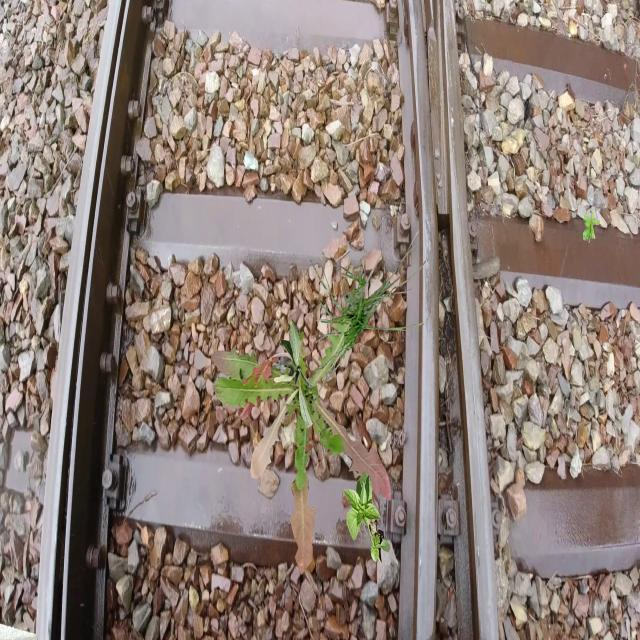Plant: (211, 298, 391, 576), (308, 229, 426, 392), (343, 471, 391, 566), (274, 319, 314, 429), (583, 211, 600, 243)
